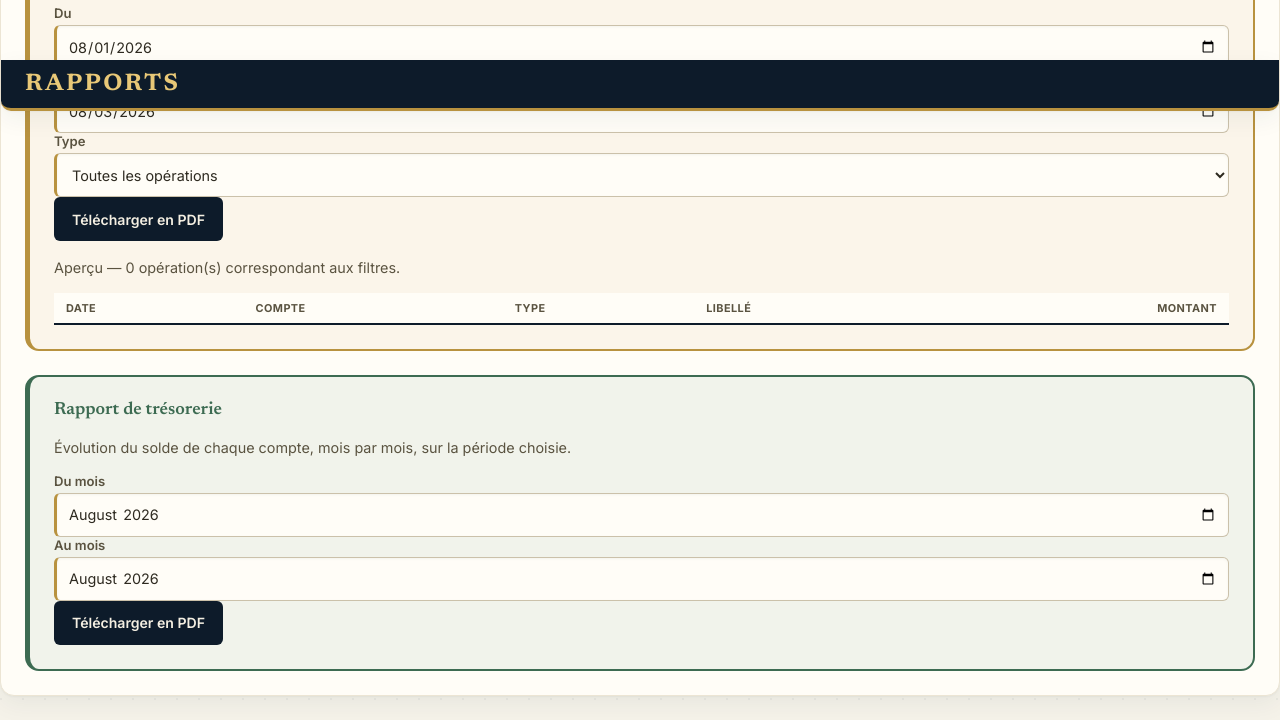
it: ReportsPanel › shows an inline error when the cash flow report's month range is invalid
(page scrolled)
Replace the text in the field labelled "Du mois" with "2026-06" at [642, 515], box [54, 493, 1229, 537]
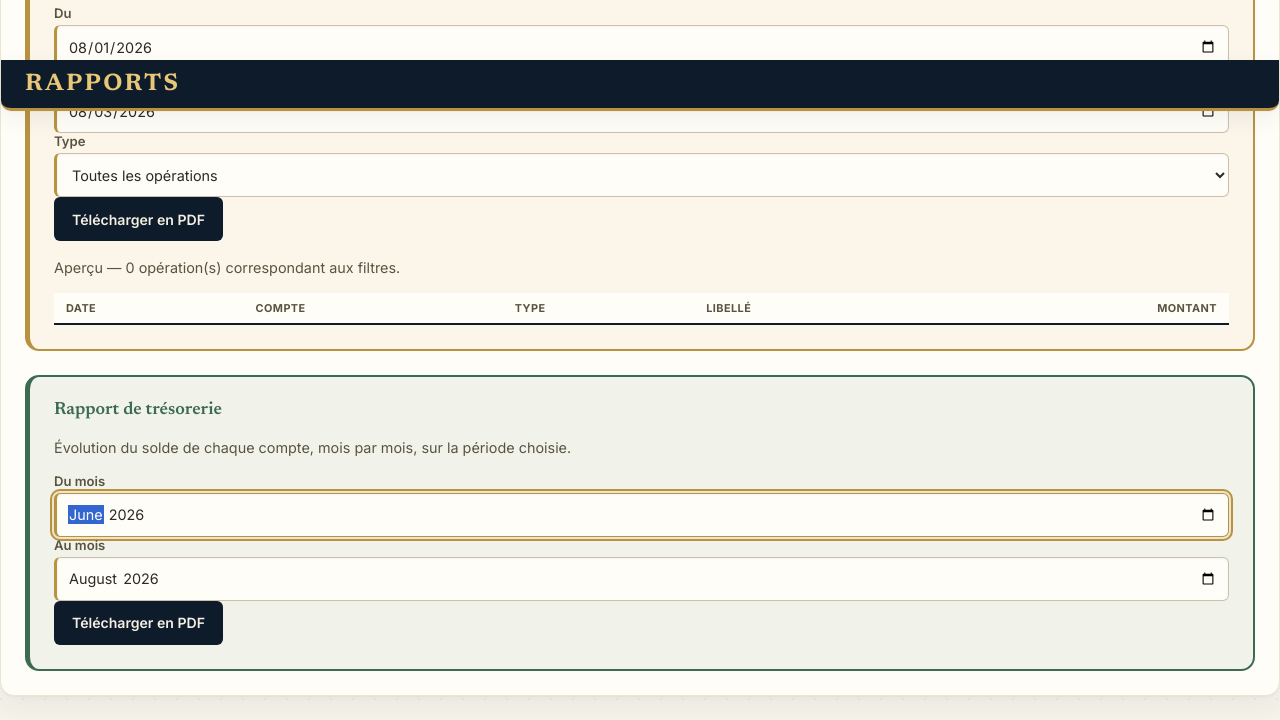
Replace the text in the field labelled "Au mois" with "2026-01" at [642, 579], box [54, 557, 1229, 601]
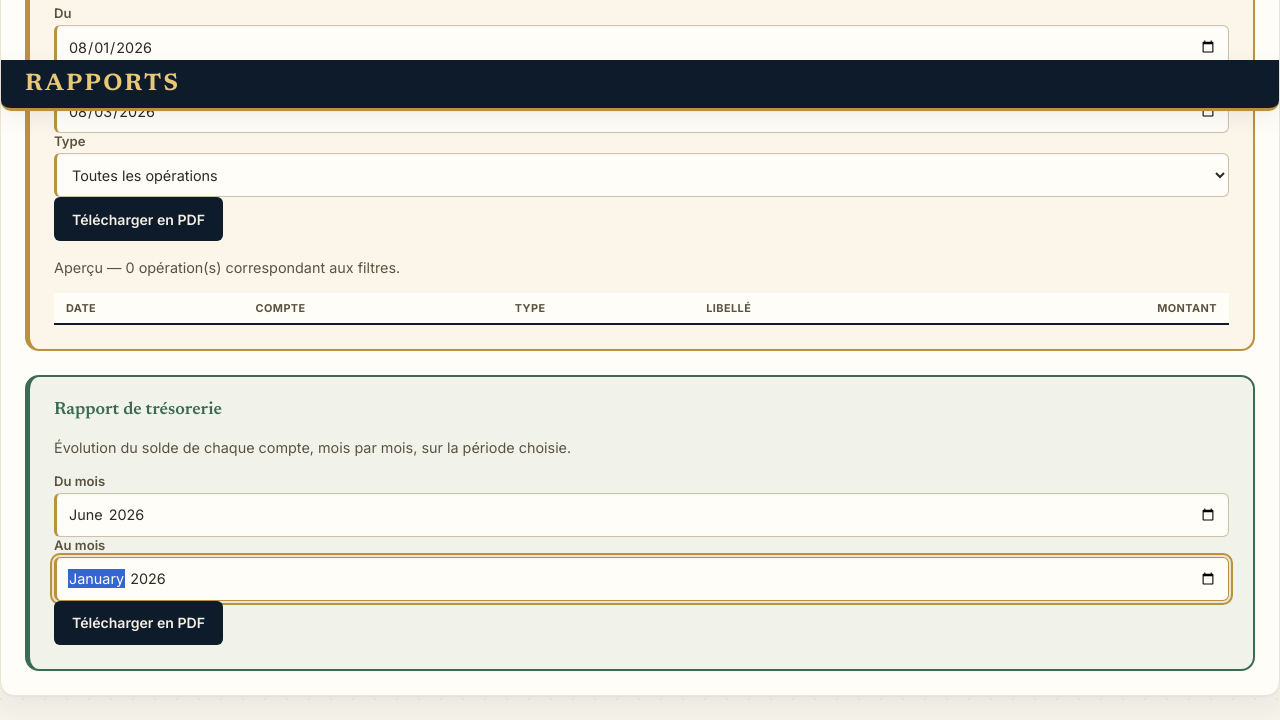
Click the button "Télécharger en PDF" below "Au mois" at [138, 623], box [54, 601, 223, 645]
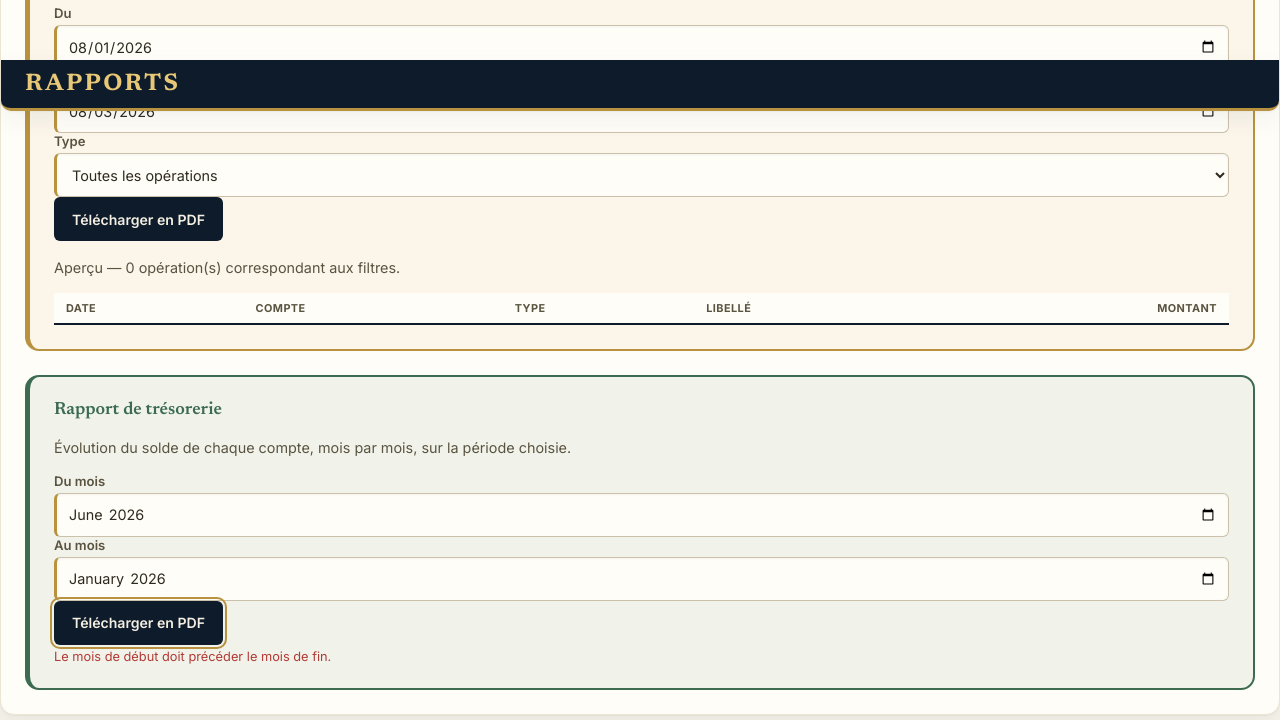
Expected: the message shows "doit précéder", [54, 649, 331, 664]
